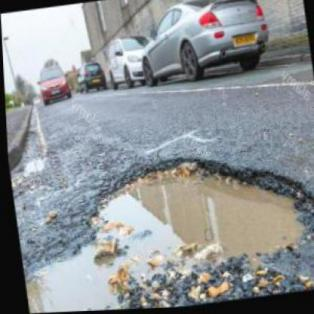Hueco: (75, 136, 313, 303), (16, 228, 137, 313), (19, 153, 45, 175)
